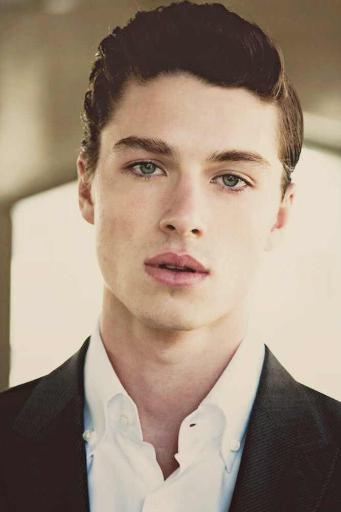left_eye: (209, 172, 257, 194)
left_lip_corner: (202, 266, 216, 284)
right_eye: (121, 159, 170, 181)
right_lip_corner: (140, 257, 155, 278)
